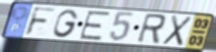5: (108, 11, 136, 43)
E: (78, 10, 113, 41)
F: (23, 6, 59, 37)
G: (52, 9, 80, 39)
R: (134, 13, 168, 46)
X: (160, 14, 194, 47)
